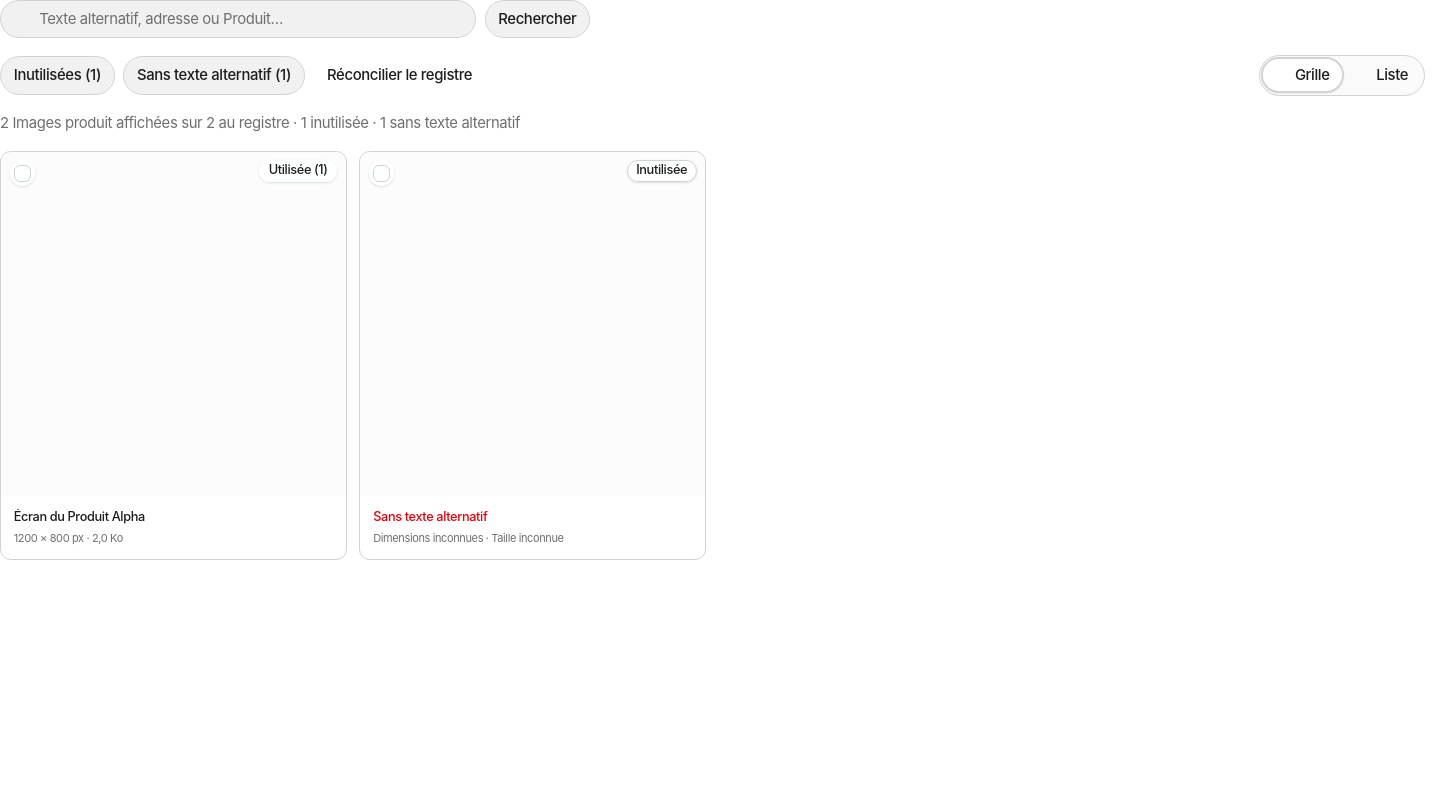
Scenario: MediasBibliotheque › affiche le refus de suppression qui nomme les Produits
Click the button named "Ouvrir le détail de l" next to "Utilisée (1)": (173, 324) top-left (1, 152), bottom-right (346, 496)
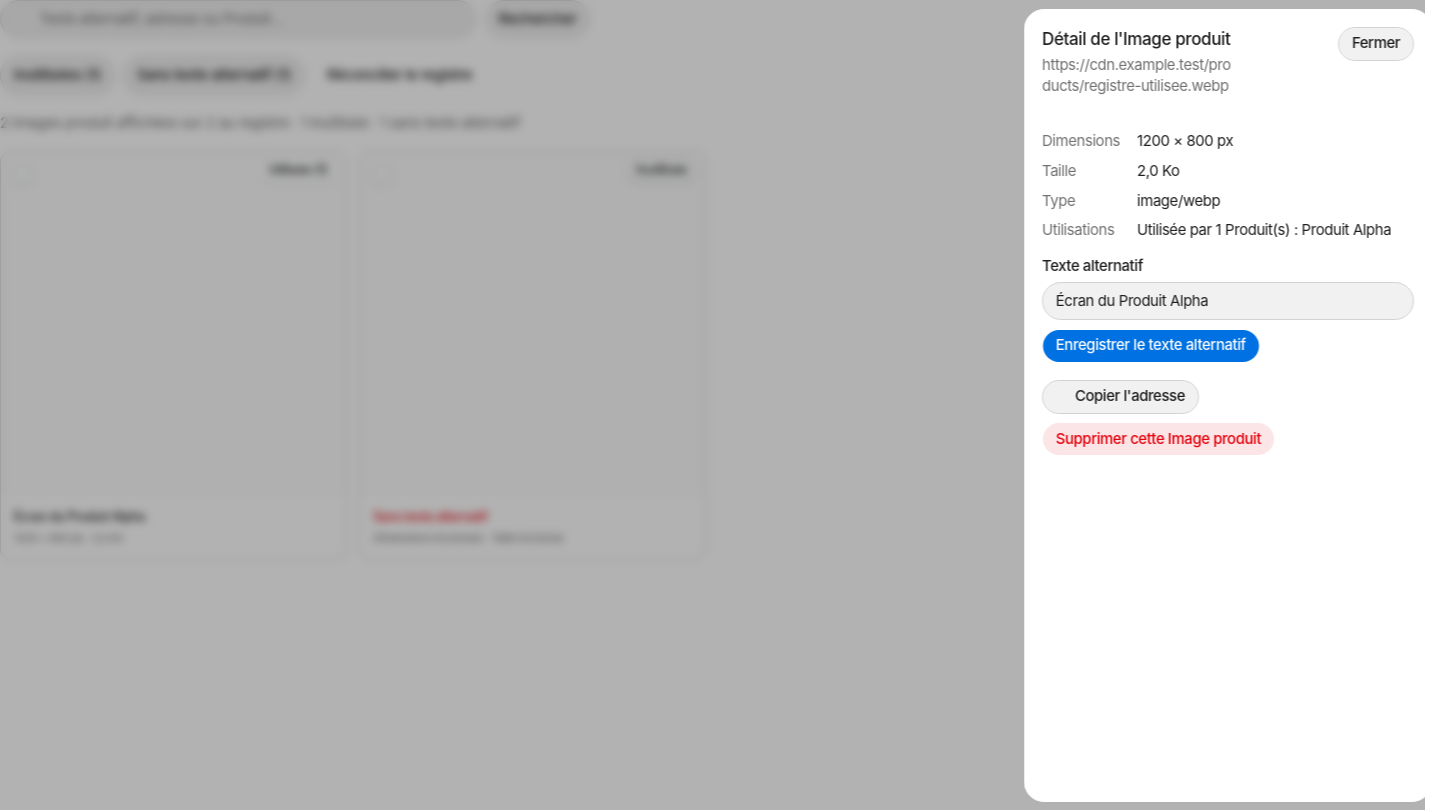
Submit the form "Supprimer cette Image produit", box top-left (1042, 422), bottom-right (1274, 456)
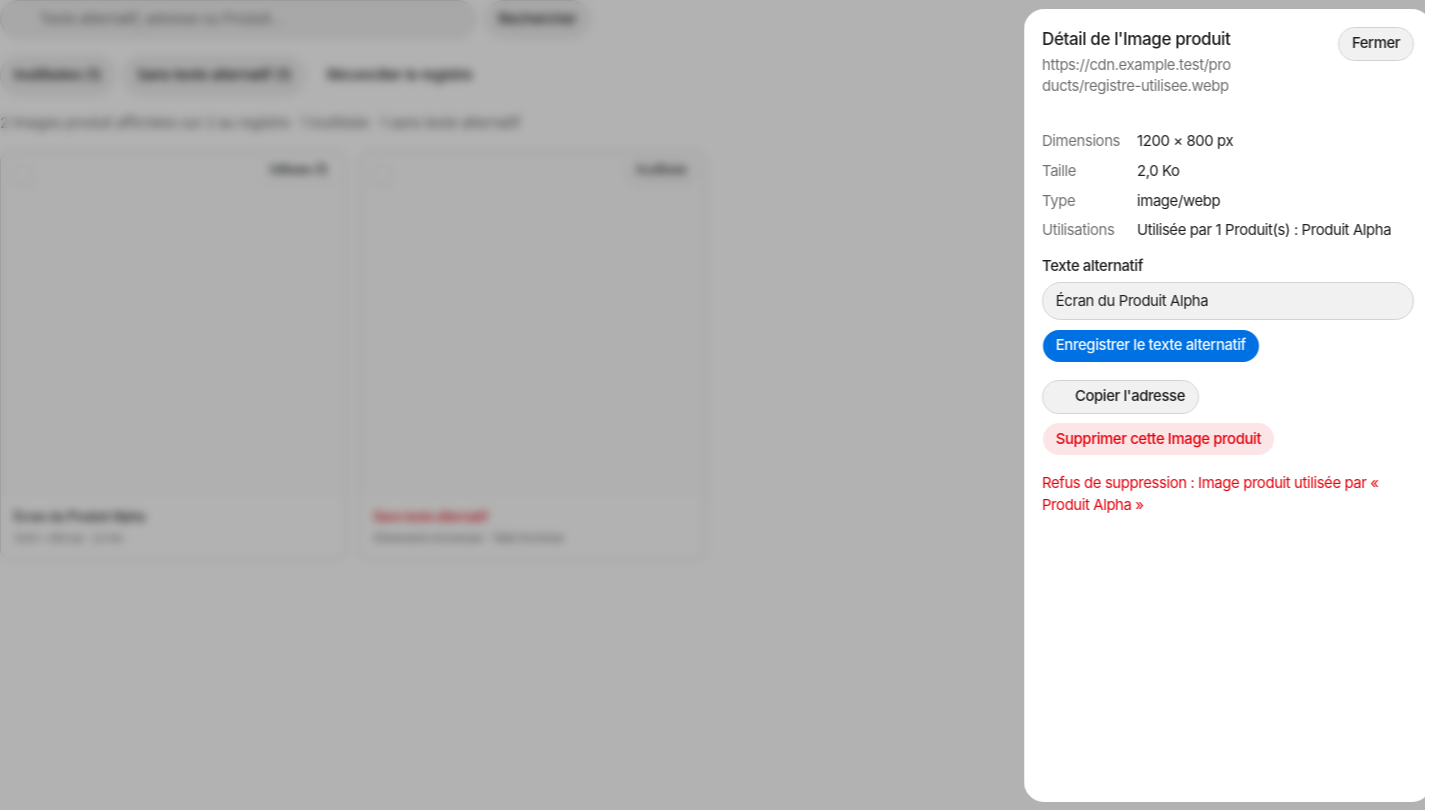
Result: the dialog shows "Refus de suppression : Image produit utilisée par « Produit Alpha »" at top-left (1042, 474), bottom-right (1378, 513)
